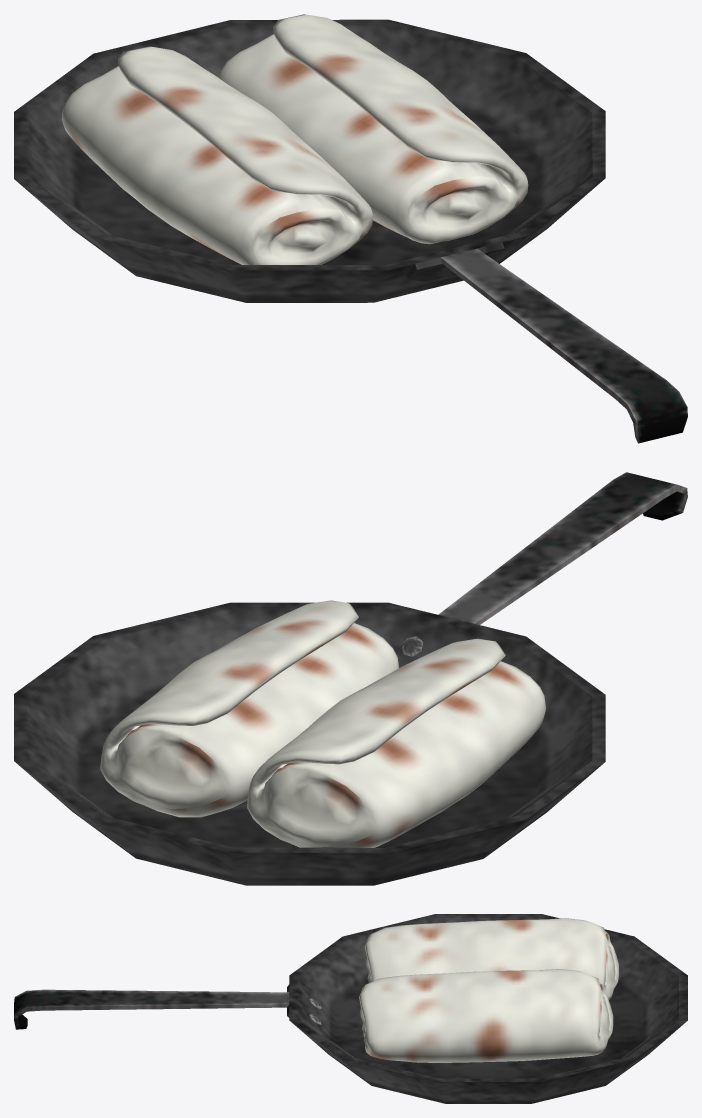
The model's file is AL_ChivichangasForged.fbx.
3 renders of one model, top to bottom at view 1: azimuth 30°, elevation 25°; view 2: azimuth 150°, elevation 25°; view 3: azimuth 270°, elevation 25°, orthographic. The views are drawn at different scales.
Parts seen in each view (by area): view 1: g Test; view 2: g Test; view 3: g Test.
Boxes of the visible parts, x1,y1,x2,y2 form: g Test: [14, 14, 687, 443]; g Test: [14, 472, 687, 885]; g Test: [14, 914, 687, 1103].
Bounding box in the file's own units: 0.7308 × 0.0955 × 0.4323.
